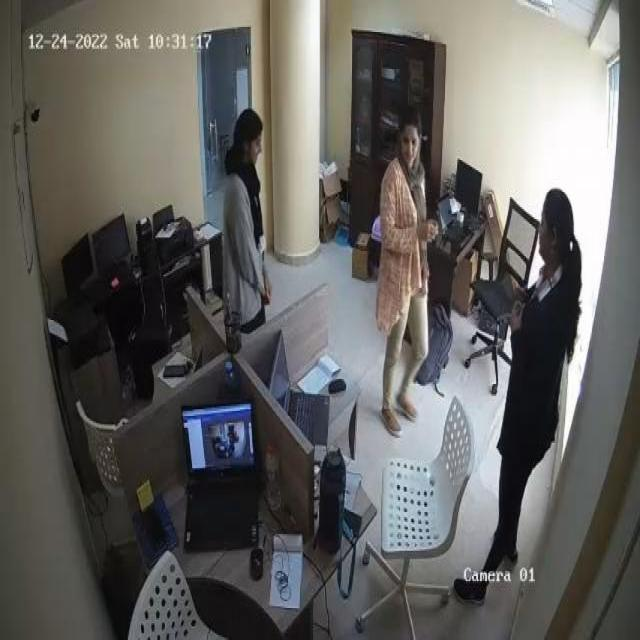bare_hand: (508, 293, 527, 339), (418, 211, 439, 248), (261, 275, 276, 313)
